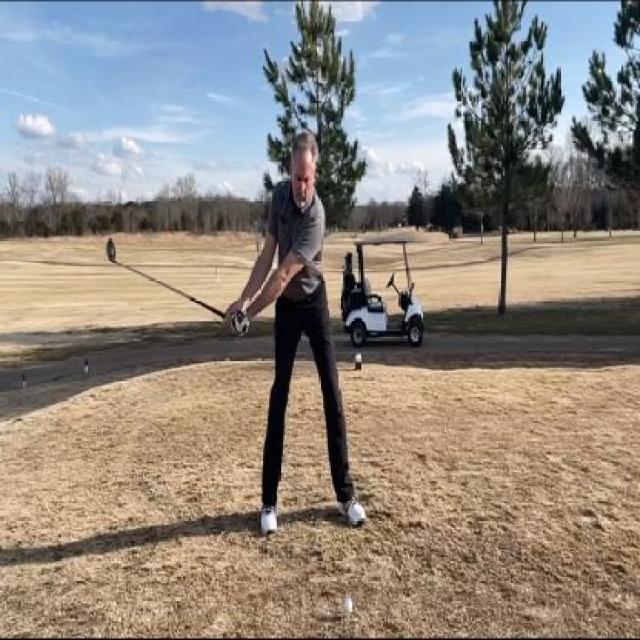club head: (104, 236, 118, 266)
